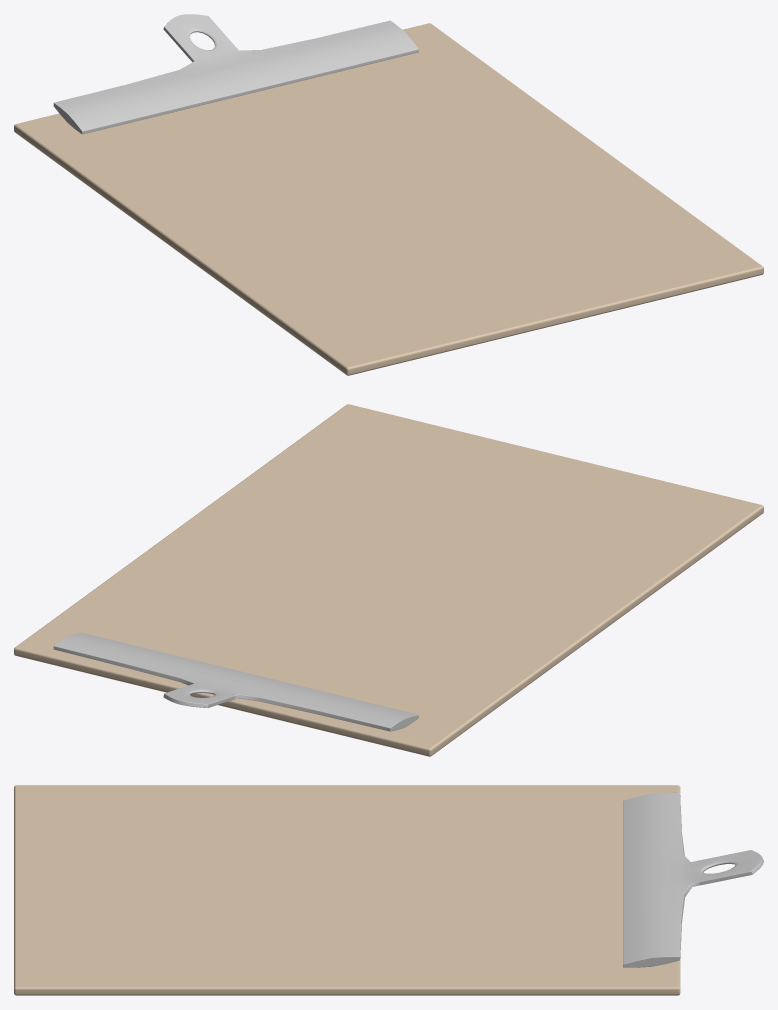
The model's file is clipboard.fbx.
The picture shows the model from 3 angles, top to bottom: view 1: azimuth 30°, elevation 25°; view 2: azimuth 150°, elevation 25°; view 3: azimuth 270°, elevation 25°; orthographic projection.
Visible parts, largest first — view 1: board, clamp; view 2: board, clamp; view 3: board, clamp.
Part boxes in pixels (x1,y1,x2,y2): board: (14,23,763,375); clamp: (53,14,418,134); board: (14,404,763,756); clamp: (53,632,418,731); board: (14,785,680,995); clamp: (623,792,763,967).
Size of the model in its own units: 4.79 by 0.3994 by 7.48.
